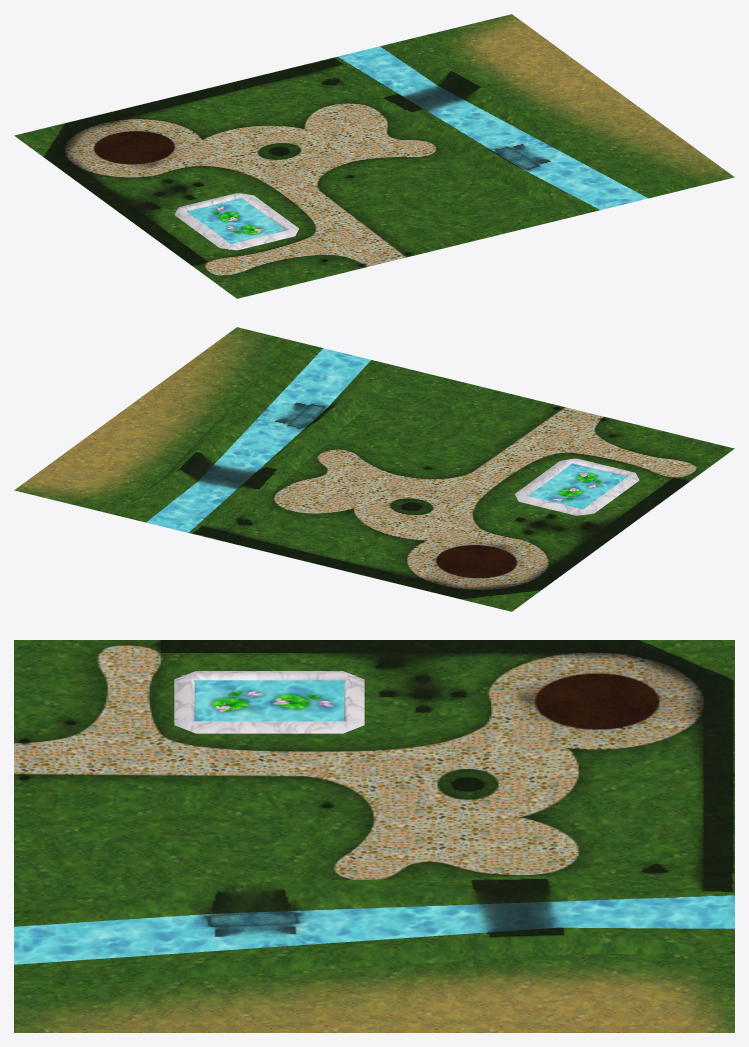
Rendered from ground.DAE.
3 views of the same model, one above another, from view 1: azimuth 30°, elevation 25°; view 2: azimuth 150°, elevation 25°; view 3: azimuth 270°, elevation 25° (orthographic). The views are drawn at different scales.
Parts seen in each view (by area): view 1: ground_PIVOT; view 2: ground_PIVOT; view 3: ground_PIVOT.
Part boxes in pixels (bbox=[...]): ground_PIVOT: bbox=[14, 14, 734, 298]; ground_PIVOT: bbox=[14, 327, 734, 611]; ground_PIVOT: bbox=[14, 640, 734, 1032].
Size of the model in its own units: 1871 by 1452 by 41.21.
